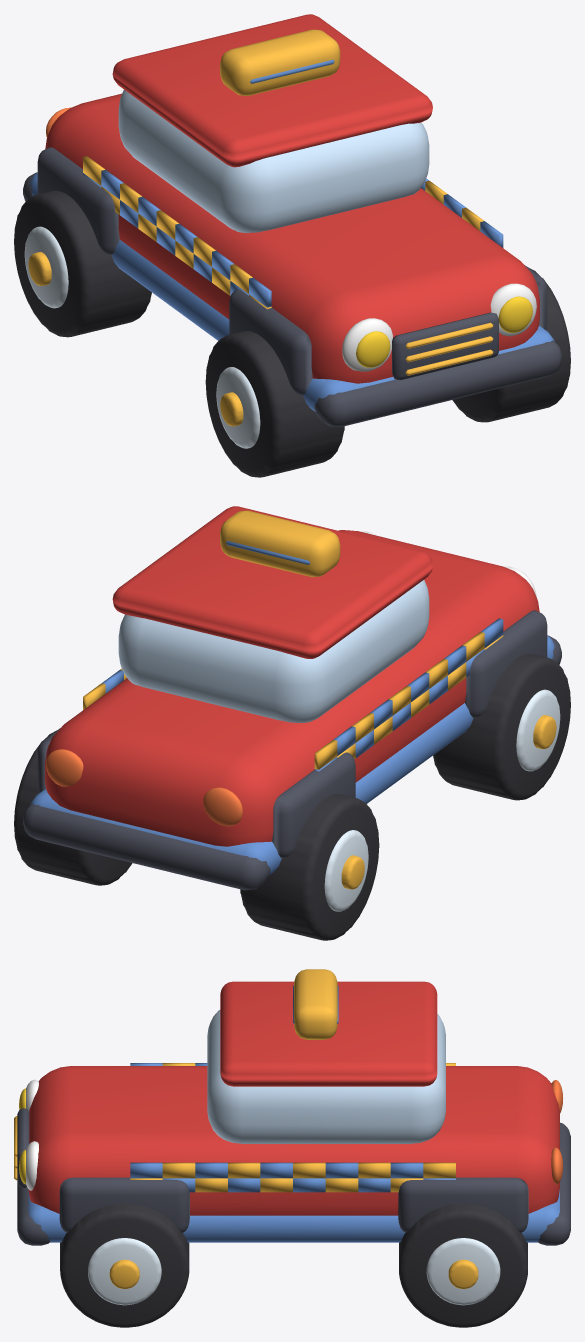
The model's file is toy-cabbie.glb.
3 renders of one model, top to bottom at view 1: azimuth 30°, elevation 25°; view 2: azimuth 150°, elevation 25°; view 3: azimuth 270°, elevation 25°, orthographic. The views are drawn at different scales.
Parts seen in each view (by area): view 1: body, wheel-back-right, wheel-front-right, grill, wheel-front-left; view 2: body, wheel-front-right, wheel-back-right, wheel-back-left; view 3: body, wheel-front-left, wheel-back-left, grill.
Boxes of the visible parts, x1,y1,x2,y2 form: body: [23, 14, 561, 427]; wheel-back-right: [14, 190, 151, 337]; wheel-front-right: [205, 331, 344, 477]; grill: [392, 312, 498, 379]; wheel-front-left: [452, 267, 570, 422]; body: [23, 506, 561, 890]; wheel-front-right: [433, 653, 570, 800]; wheel-back-right: [240, 794, 379, 940]; wheel-back-left: [14, 730, 132, 885]; body: [17, 969, 570, 1245]; wheel-front-left: [60, 1203, 189, 1327]; wheel-back-left: [399, 1203, 527, 1327]; grill: [14, 1108, 29, 1187].
Bounding box in the file's own units: 1.52 × 1.41 × 2.56.
Materials: 1 (1 with a texture image).
